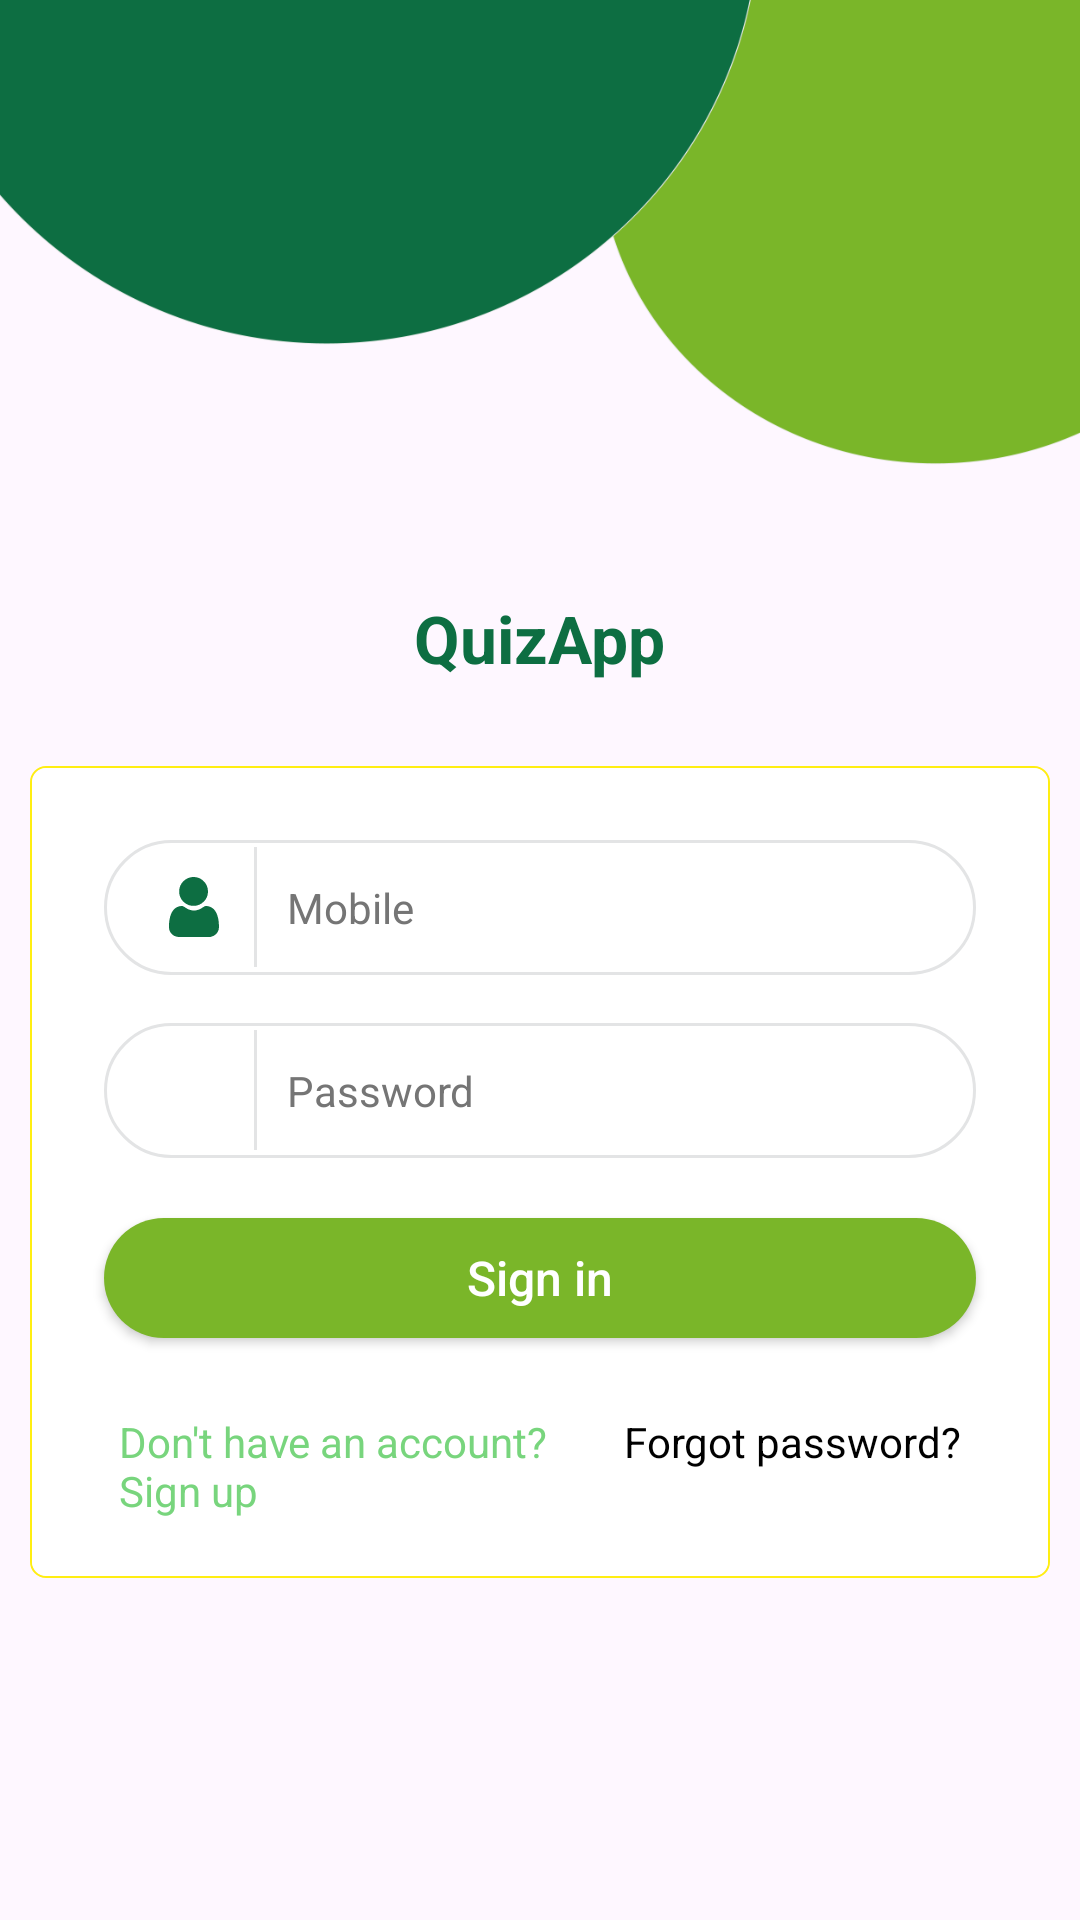

Named icons in this screenshot (1080w x 1920h) and their centers, point (x, y):
username: point (194, 907)
